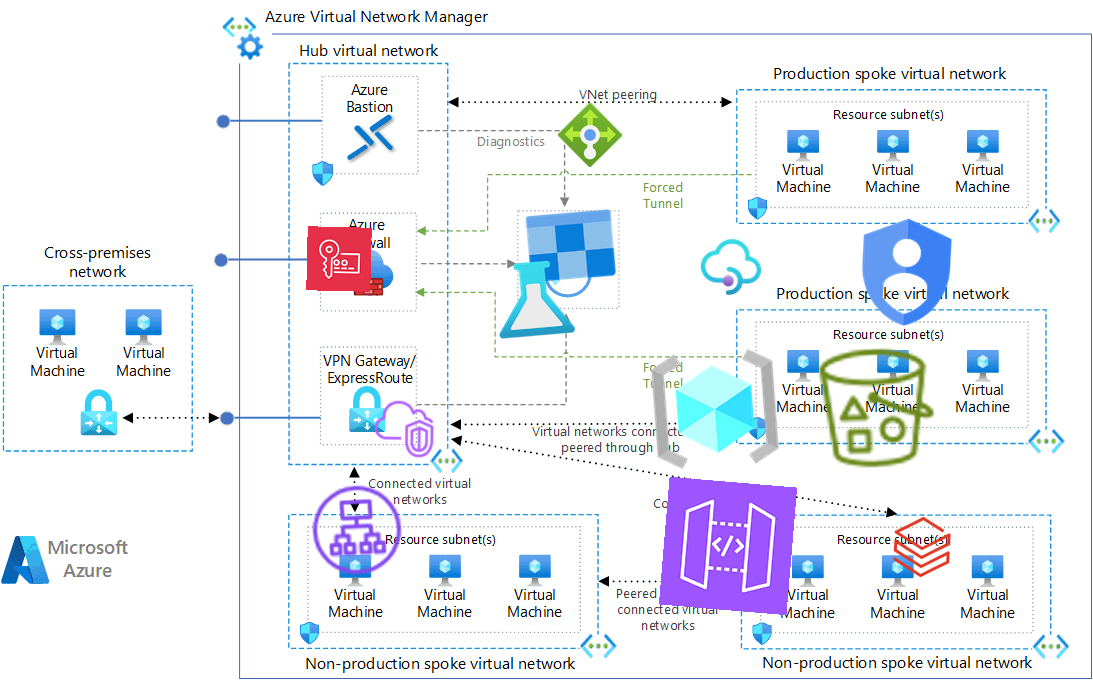aws_amazon_api_gateway: (658, 476, 798, 616)
aws_elastic_load_balancing_application_load_balancer: (306, 479, 408, 581)
aws_key_management_service: (306, 226, 372, 292)
aws_simple_storage_service_bucket_with_objects: (810, 341, 944, 475)
aws_vpc_virtual_private_cloud_vpc: (371, 396, 437, 462)
azure_api_management_services: (697, 233, 765, 301)
azure_databricks: (888, 513, 956, 581)
azure_load_balancers: (557, 102, 623, 168)
azure_machine_learning_studio_workspaces: (485, 204, 625, 344)
azure_resource_groups: (646, 340, 784, 478)
gcp_identity_and_access_management: (838, 204, 974, 340)
